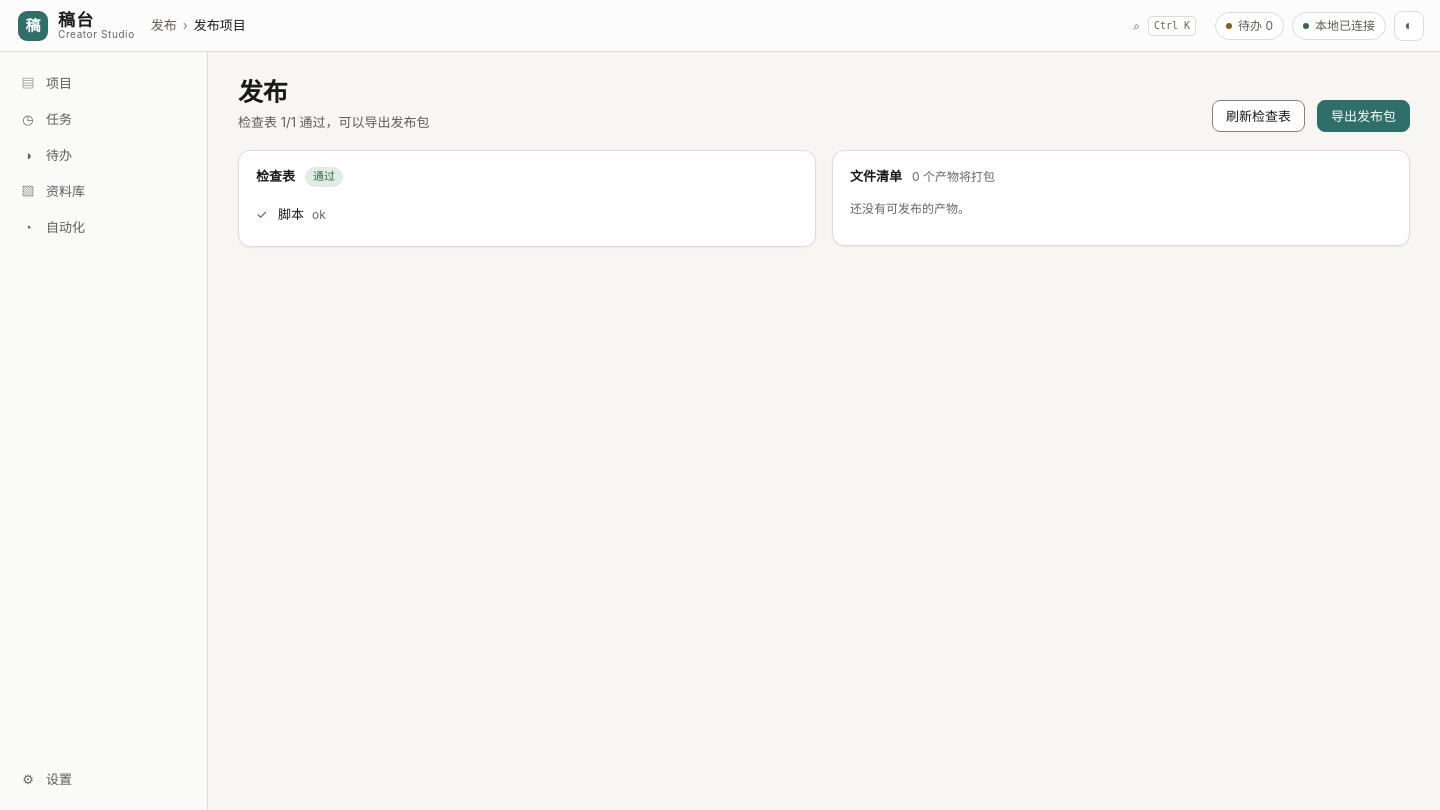
publish page › shows the daemon error when export is refused
Click the button "导出发布包". click: coordinates (1364, 116)
box: [1317,100,1410,132]
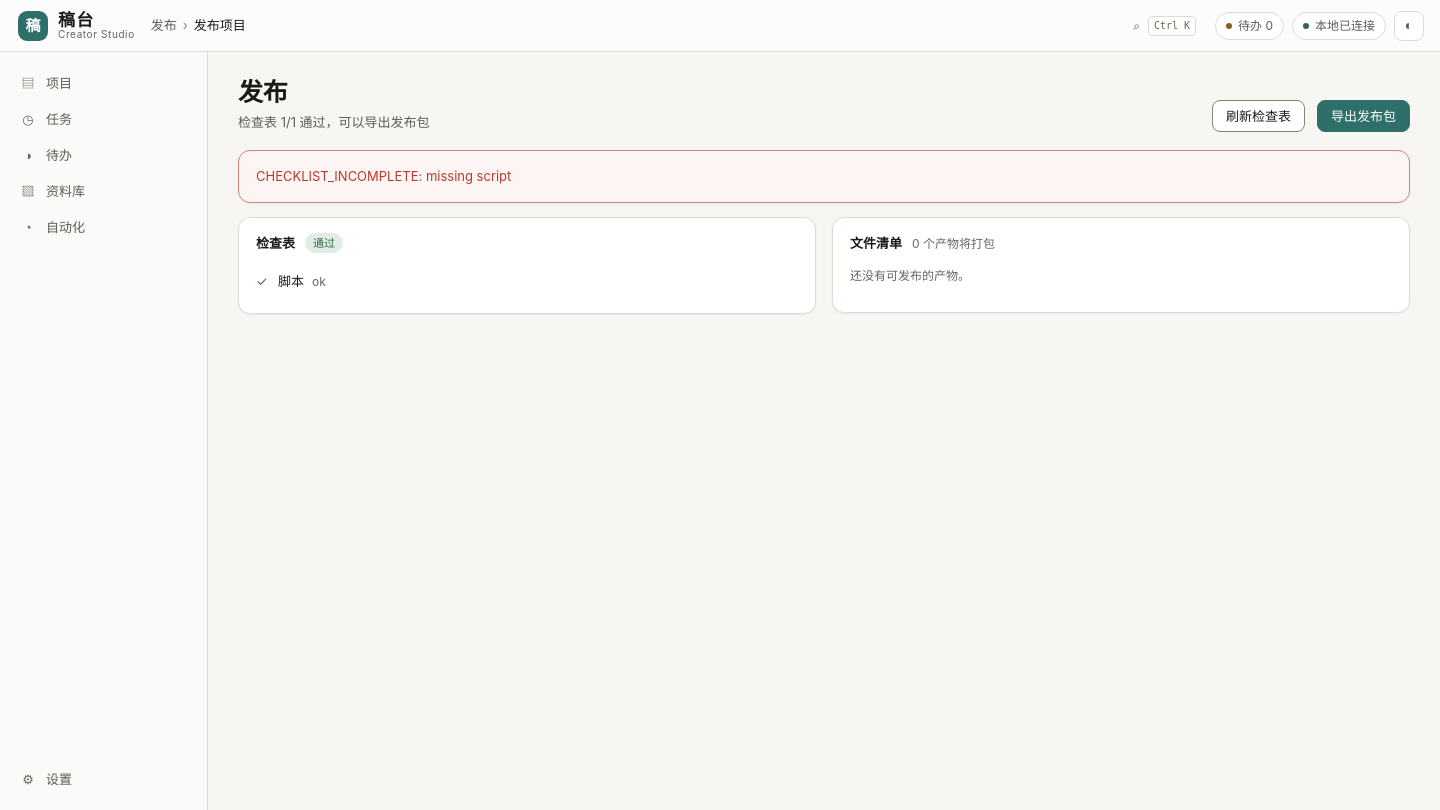
Result: the text "CHECKLIST_INCOMPLETE: missing script" is shown at [238,150,1410,203]
